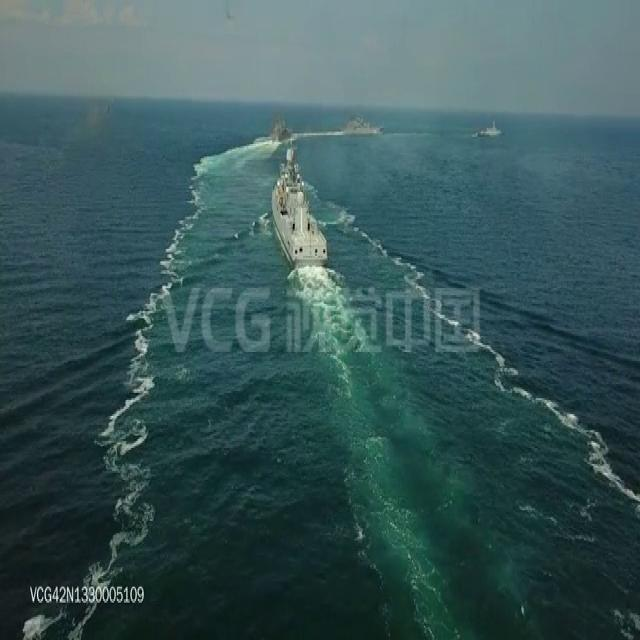navalvessels: (270, 145, 328, 260), (262, 110, 296, 146), (336, 112, 383, 136), (474, 116, 504, 143)
